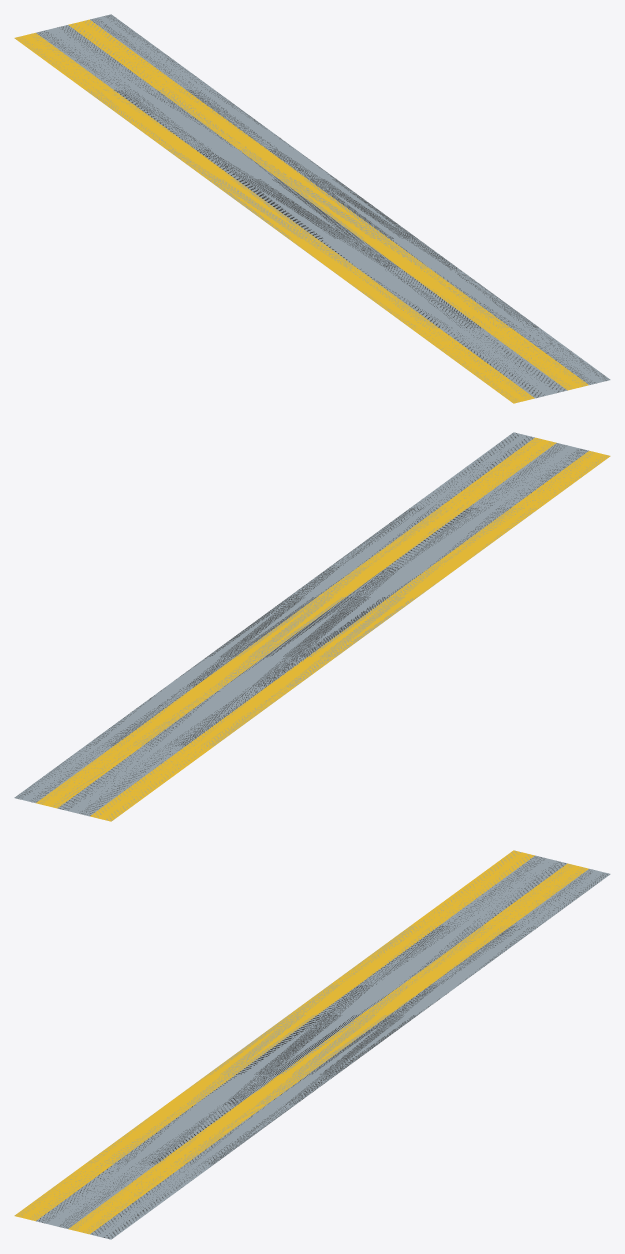
Rendered from double_yellow_line.fbx.
The picture shows the model from 3 angles, top to bottom: view 1: azimuth 30°, elevation 25°; view 2: azimuth 150°, elevation 25°; view 3: azimuth 330°, elevation 25°; orthographic projection.
Parts seen in each view (by area): view 1: Model; view 2: Model; view 3: Model.
Boxes of the visible parts, x1,y1,x2,y2 form: Model: (14, 14, 610, 403); Model: (14, 432, 610, 821); Model: (14, 850, 610, 1239).
Bounding box in the file's own units: 0.45 × 0 × 4.
